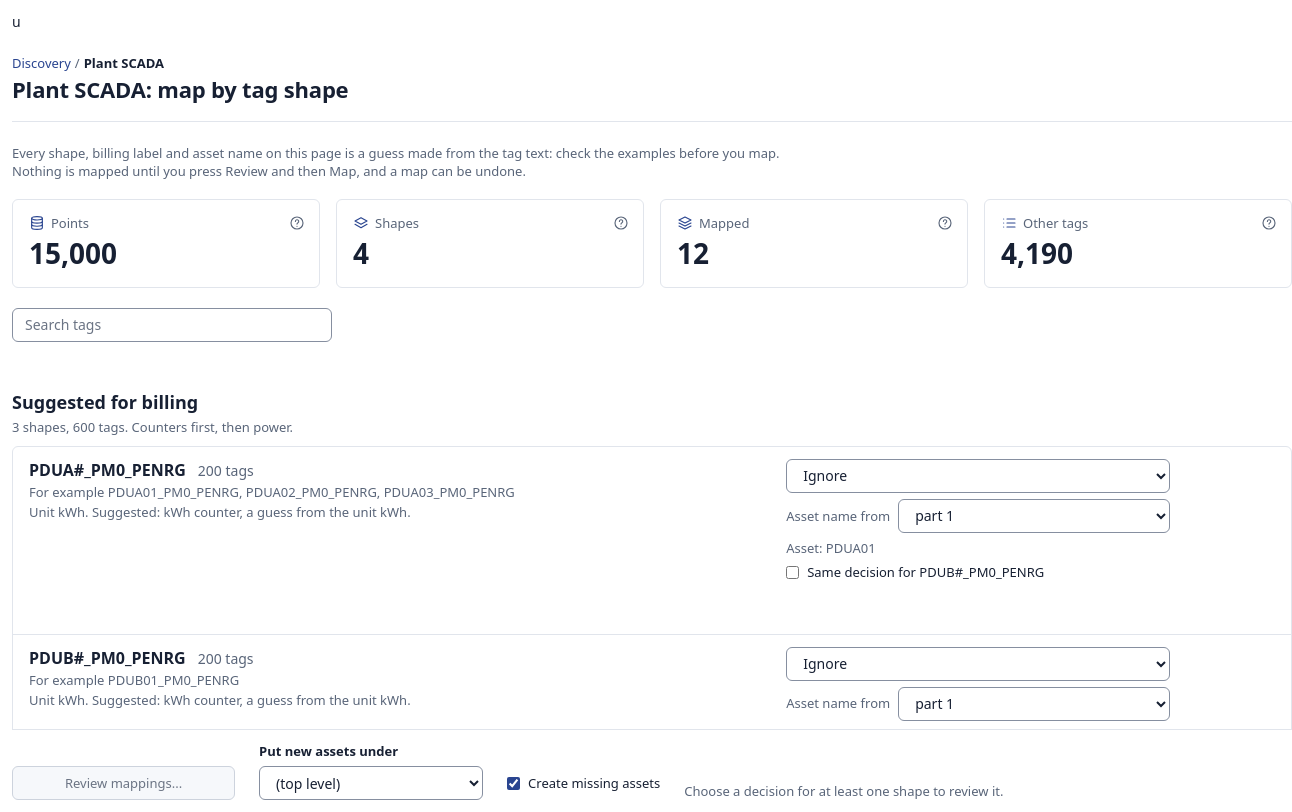
Test: SourceShapesPage: the search › lists the first matches, and the row of a match is highlighted and focused
The image size is (1292, 812).
Expected: the heading "Plant SCADA: map by tag shape" is shown, [12,74,348,104]
Expected: the element named "Shape PDUA#_PM0_PENRG" is shown, [13,447,1291,635]
Type "PENRG" into the search field labelled "Search tags" at (172, 325), box [12,308,332,342]
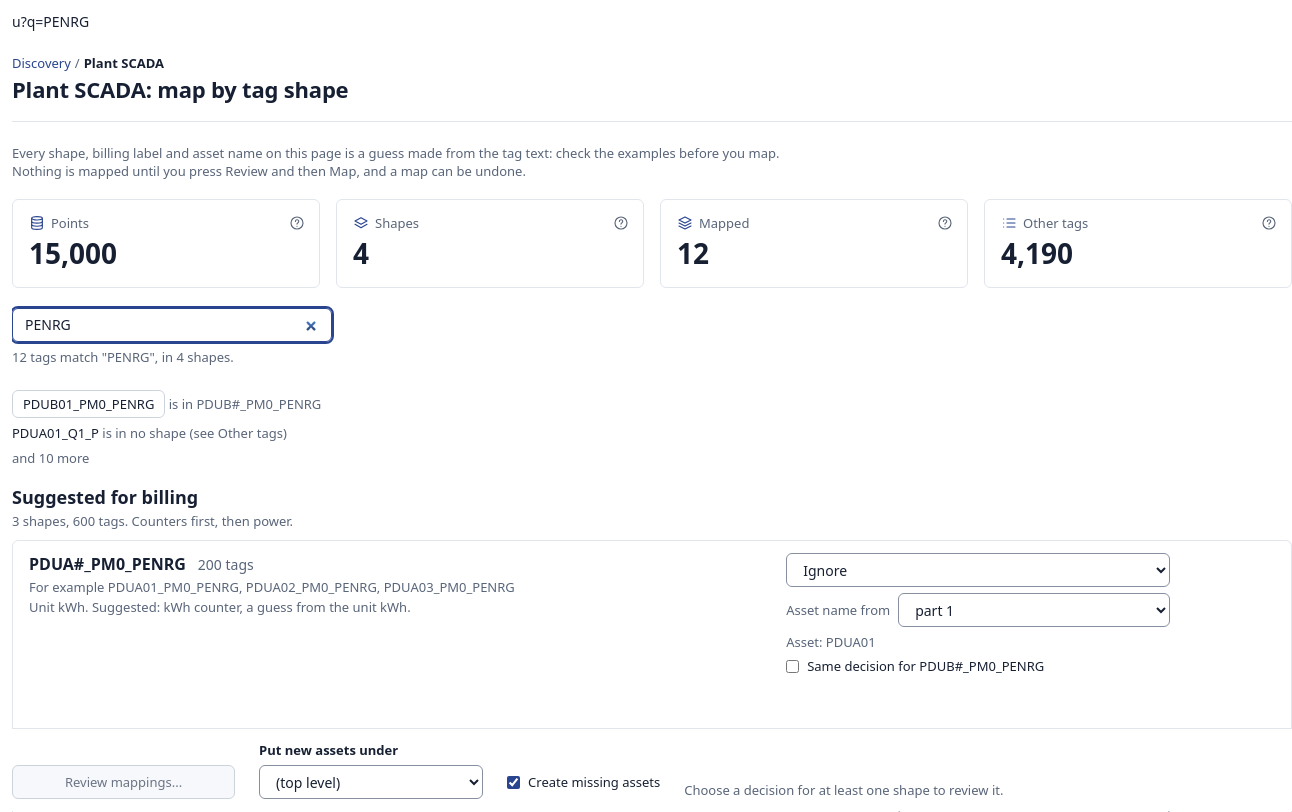
Expected: the text "12 tags match \"PENRG\", in 4 shapes." is shown, [12,348,234,366]
Expected: the list named "Matching tags" shows "and 10 more", [12,449,89,467]
Click the button "PDUB01_PM0_PENRG" at (89, 404), box [12,390,165,418]
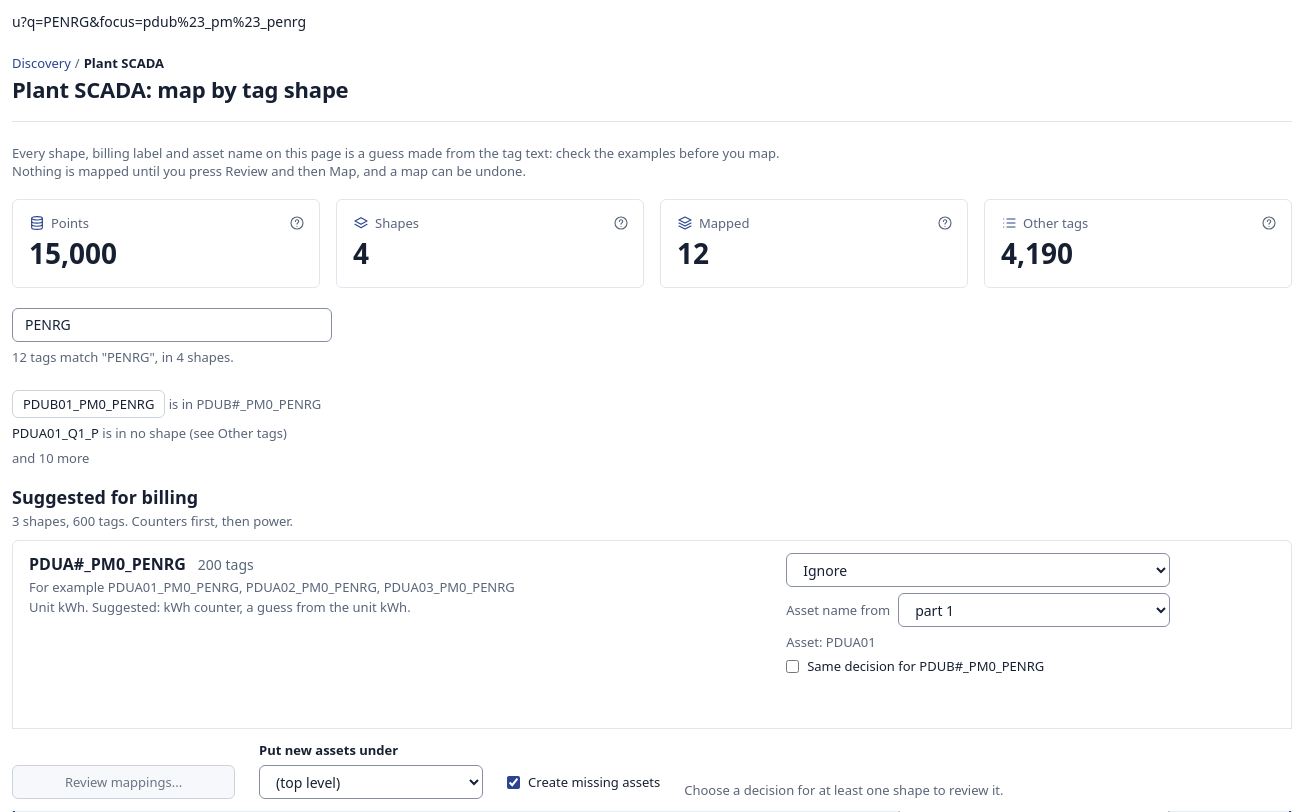
Expected: the text with test id "where" shows "focus=pdub%23_pm%23_penrg", [21,12,306,31]
